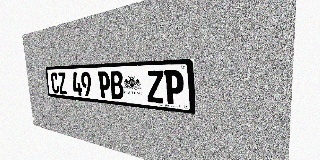4: (71, 72, 82, 96)
9: (81, 72, 92, 97)
B: (110, 71, 124, 100)
C: (50, 72, 59, 94)
P: (164, 70, 184, 105), (98, 71, 111, 99)
Z: (146, 70, 164, 104), (57, 72, 67, 94)
